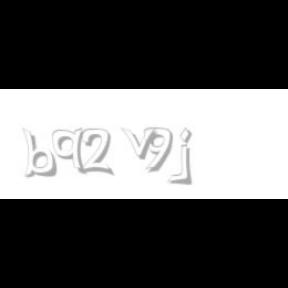2: (78, 128, 112, 176)
9: (144, 128, 172, 172)
b: (22, 128, 60, 178)
j: (178, 128, 206, 186)
q: (52, 128, 88, 176)
v: (121, 128, 161, 160)
